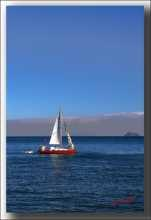fanchuan: (32, 107, 87, 159)
